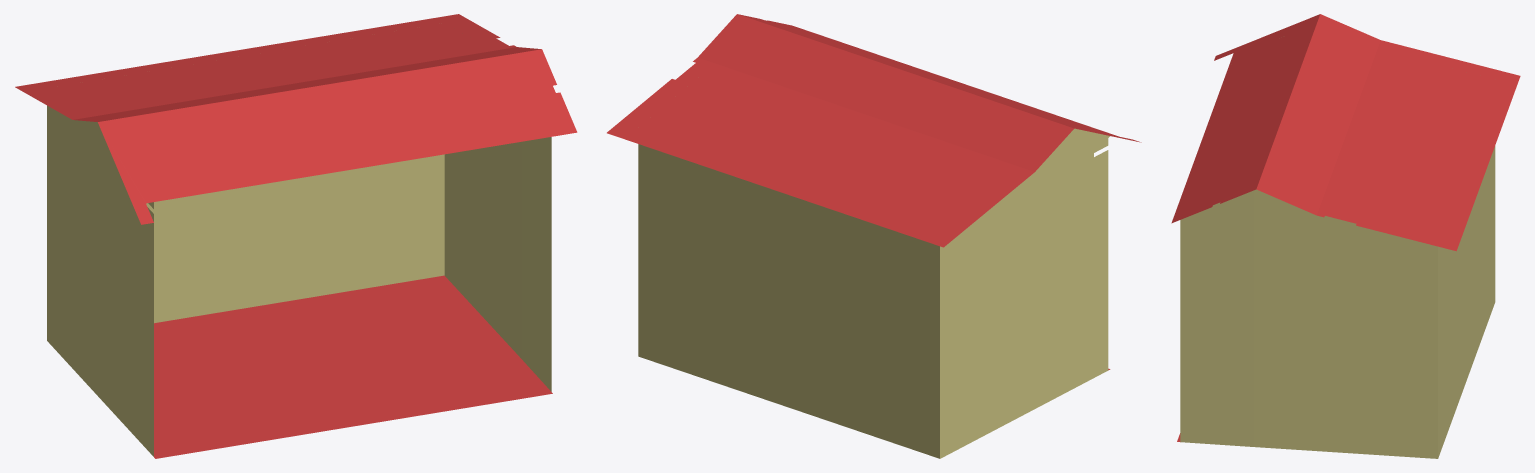
3 renders of one model, left to right at view 1: azimuth 30°, elevation 25°; view 2: azimuth 150°, elevation 25°; view 3: azimuth 270°, elevation 25°, orthographic. The views are drawn at different scales.
Size of the model in its own units: 10.44 by 7.89 by 6.65.
